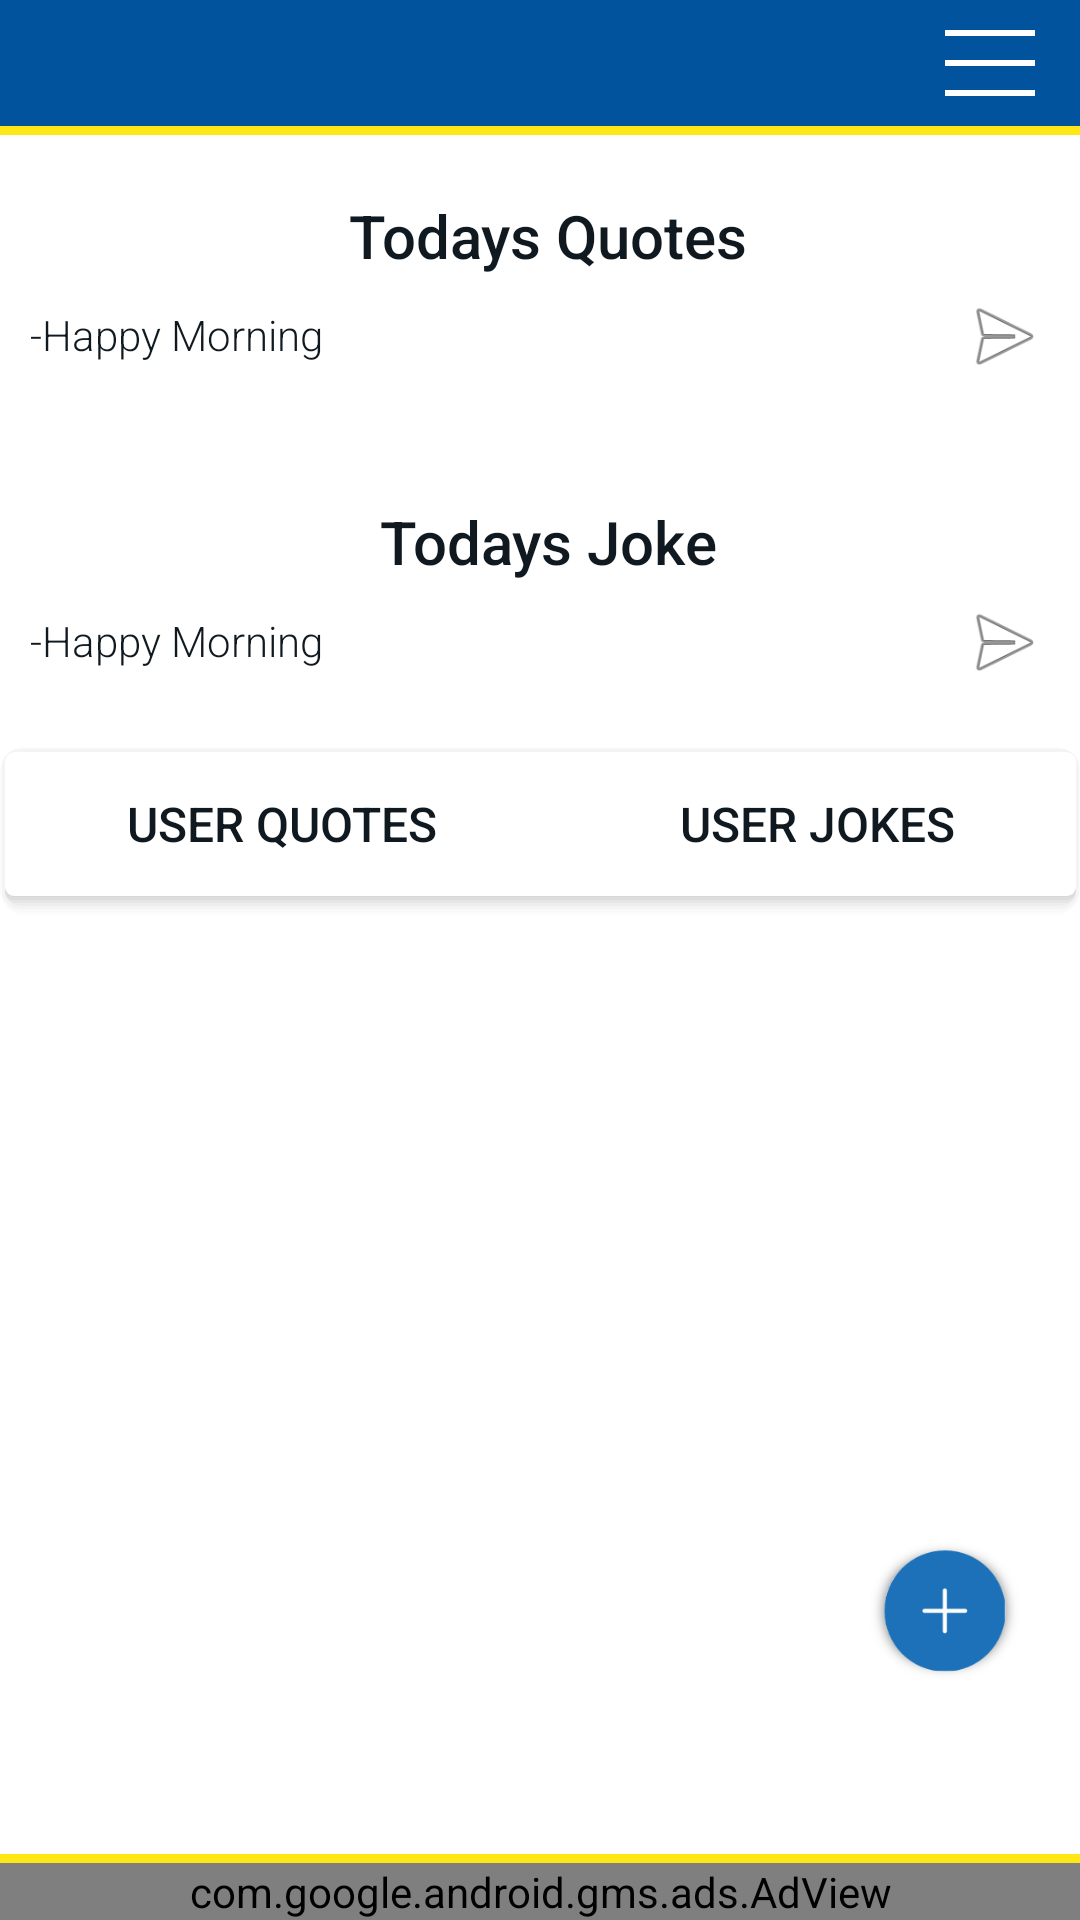

Named icons in this screenshot (1080*1920) and their centers, [x,y]:
plus: [945,1611]
send: [1005,336], [1005,642]
